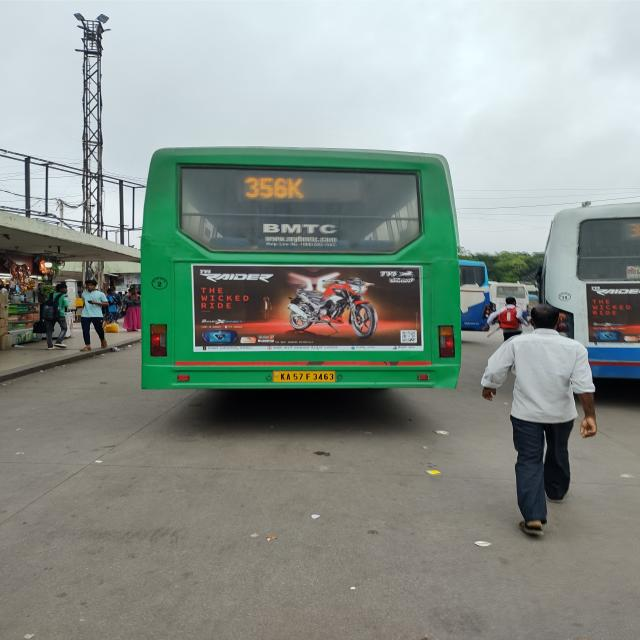bus: (139, 144, 474, 398), (532, 190, 640, 384)
display: (238, 176, 366, 204)
dnumber: (244, 177, 305, 199)
